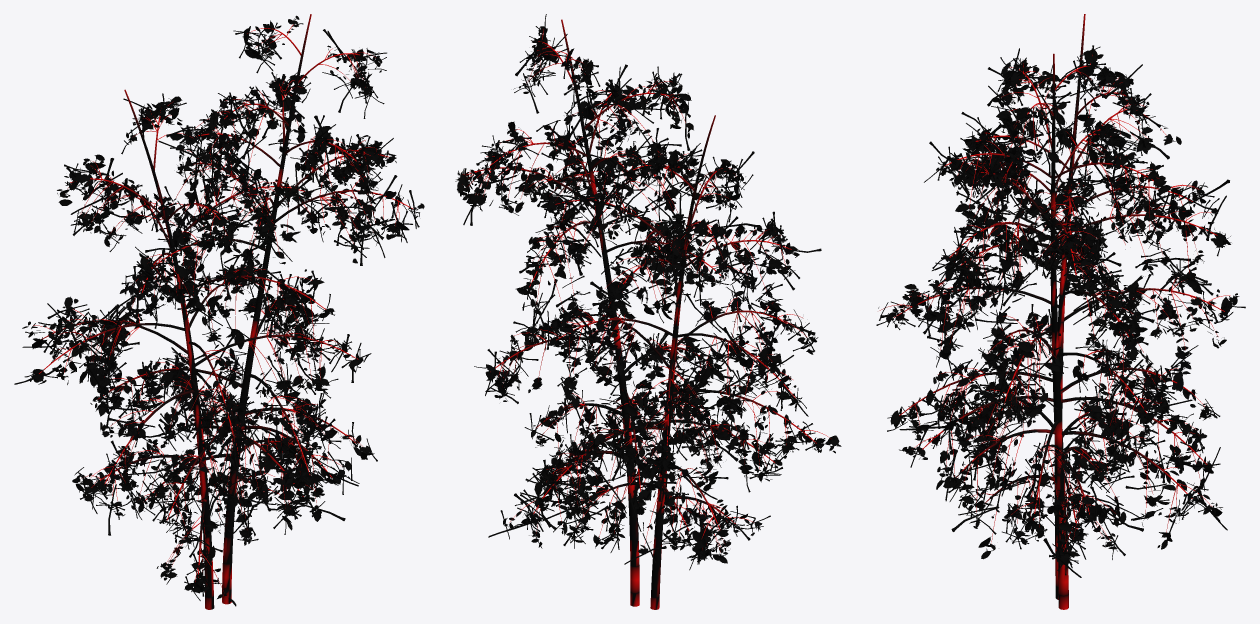
File: SM_BroadleafYoung_01.fbx
3 views of the same model, side by side, from view 1: azimuth 30°, elevation 25°; view 2: azimuth 150°, elevation 25°; view 3: azimuth 270°, elevation 25° (orthographic). The views are drawn at different scales.
Visible parts, largest first — view 1: SM_BroadleafYoung_01; view 2: SM_BroadleafYoung_01; view 3: SM_BroadleafYoung_01.
Part boxes in pixels (x1,y1,x2,y2): SM_BroadleafYoung_01: (14,14,424,609); SM_BroadleafYoung_01: (455,14,841,609); SM_BroadleafYoung_01: (876,14,1245,609).
Size of what is drawn, in the model's own units: 692 by 585 by 1020.
